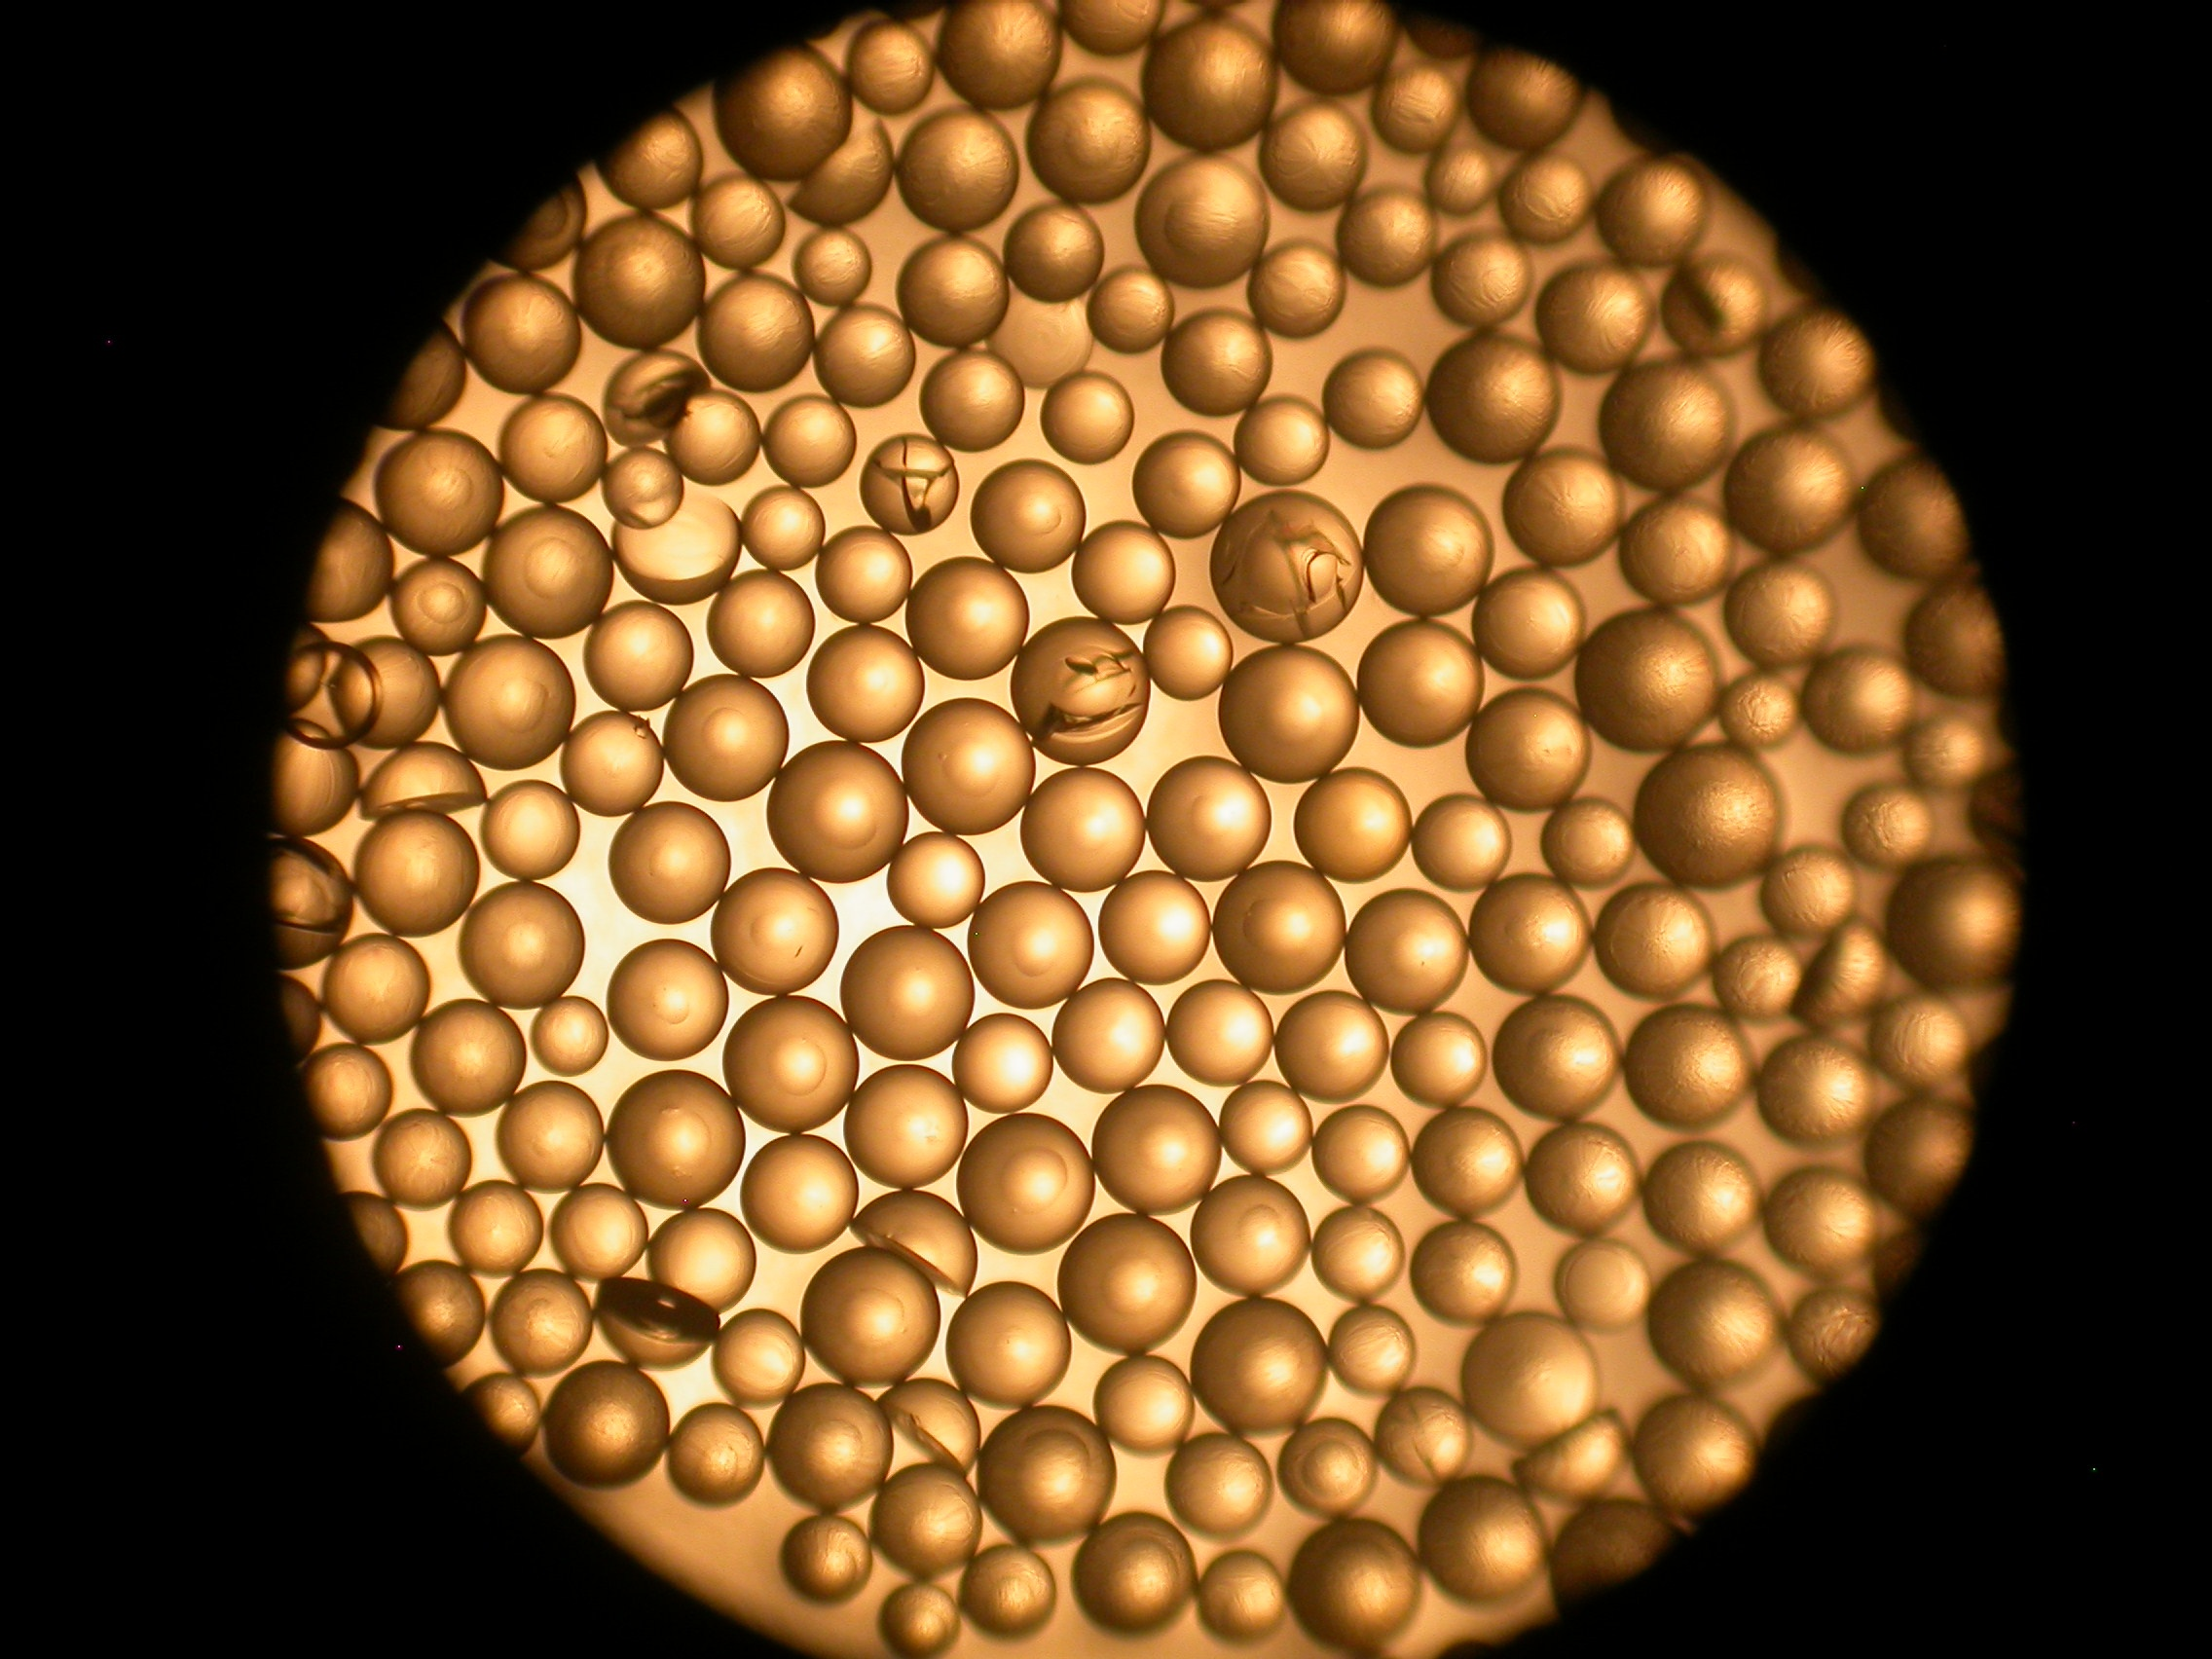destroyed_resin: (1209, 488, 1364, 643), (1010, 617, 1151, 767), (848, 1190, 977, 1297), (254, 836, 352, 969), (596, 1279, 719, 1371), (1663, 253, 1766, 359), (791, 122, 895, 223), (860, 434, 960, 537), (1372, 1385, 1474, 1485), (603, 349, 707, 444), (1515, 1413, 1632, 1499), (359, 742, 489, 816), (878, 1378, 979, 1471), (1799, 920, 1883, 1025)
full_resin: (1634, 744, 1784, 890), (1575, 608, 1721, 753), (766, 741, 911, 884), (1055, 1213, 1198, 1356), (799, 1246, 942, 1387), (956, 1114, 1096, 1256), (1217, 645, 1359, 784), (606, 1068, 745, 1209), (1190, 1297, 1327, 1436), (977, 1406, 1118, 1541), (723, 997, 860, 1133), (840, 925, 975, 1061), (1143, 16, 1278, 152), (1599, 355, 1735, 491), (714, 44, 852, 178), (444, 634, 578, 770), (1212, 861, 1346, 995), (1888, 856, 2022, 990), (902, 699, 1035, 835), (1136, 155, 1271, 288), (1460, 1312, 1599, 1441), (482, 507, 615, 641), (1430, 329, 1562, 464), (1648, 1258, 1785, 1387), (573, 214, 705, 347), (1724, 425, 1860, 554), (456, 880, 587, 1011), (1364, 484, 1493, 617), (967, 878, 1096, 1009), (1092, 1084, 1221, 1215), (1289, 1520, 1421, 1647), (1623, 1002, 1754, 1129), (712, 868, 840, 997), (662, 674, 791, 802), (1420, 1478, 1548, 1605), (354, 810, 481, 939), (376, 429, 503, 558), (543, 1359, 667, 1492), (1357, 620, 1484, 748), (946, 1281, 1071, 1410), (765, 1382, 894, 1507), (1019, 767, 1146, 892), (604, 938, 732, 1063), (1493, 995, 1622, 1119), (1146, 756, 1271, 882), (1465, 687, 1590, 812), (843, 1065, 970, 1188), (906, 556, 1029, 681), (1026, 78, 1151, 202), (1346, 889, 1468, 1016), (608, 802, 732, 925), (1071, 1514, 1197, 1636), (899, 106, 1019, 230), (1860, 453, 1973, 584), (1635, 1396, 1757, 1516), (1468, 875, 1592, 993), (740, 1134, 860, 1255), (1191, 1175, 1310, 1297), (1594, 882, 1716, 1000), (1503, 446, 1625, 563), (1639, 1141, 1763, 1255), (806, 626, 925, 742), (409, 999, 526, 1117), (1761, 303, 1879, 420), (1756, 1033, 1876, 1148), (935, 2, 1062, 110), (970, 458, 1087, 575), (463, 277, 580, 394), (1294, 769, 1413, 884), (698, 274, 813, 392), (1536, 261, 1655, 376), (869, 1462, 984, 1577), (1052, 976, 1165, 1093), (1620, 493, 1737, 606), (1275, 992, 1390, 1105), (1526, 1122, 1641, 1236), (1099, 870, 1211, 985), (1723, 558, 1839, 667), (1905, 579, 2012, 697), (583, 599, 695, 711), (331, 636, 441, 749), (897, 237, 1010, 347), (1764, 1168, 1879, 1276), (1270, 2, 1400, 96), (1472, 566, 1583, 676), (320, 934, 432, 1044), (1259, 101, 1369, 213), (1597, 159, 1709, 268), (1413, 1107, 1524, 1215), (1162, 310, 1273, 418), (1467, 45, 1583, 148), (705, 570, 815, 678), (498, 396, 608, 504), (1867, 1100, 1973, 1211), (1552, 1506, 1669, 1607), (1804, 647, 1912, 755), (498, 1080, 606, 1188), (1167, 978, 1273, 1087), (1132, 432, 1238, 540), (648, 1208, 758, 1312), (303, 502, 394, 626), (1165, 1431, 1271, 1535), (489, 1267, 594, 1373), (1071, 521, 1176, 626), (559, 711, 664, 816), (1411, 1222, 1517, 1324), (920, 350, 1026, 453), (1092, 1354, 1195, 1457), (599, 110, 705, 209), (953, 1012, 1054, 1115), (1277, 1417, 1379, 1518), (813, 305, 914, 408), (665, 1403, 765, 1507), (482, 777, 582, 882), (270, 721, 359, 836), (1432, 230, 1536, 328), (1324, 349, 1425, 448), (1555, 1237, 1655, 1337), (1871, 993, 1970, 1093), (373, 1110, 472, 1209), (1312, 1105, 1413, 1202), (1003, 204, 1104, 301), (390, 1260, 486, 1363), (887, 831, 986, 929), (1413, 793, 1512, 890), (1336, 188, 1435, 286), (1390, 1011, 1489, 1107), (390, 558, 489, 653), (815, 526, 914, 622), (448, 1180, 543, 1277), (960, 1544, 1057, 1638), (1312, 1204, 1406, 1302), (300, 1044, 394, 1141), (1249, 244, 1346, 338), (549, 1183, 648, 1276), (1763, 843, 1858, 938), (665, 392, 761, 486), (712, 1309, 805, 1406), (1787, 1286, 1885, 1378), (1498, 152, 1595, 244), (1219, 1080, 1313, 1175), (691, 174, 784, 270), (1541, 796, 1635, 889), (1042, 371, 1136, 464), (845, 21, 935, 117), (1235, 396, 1331, 486), (1325, 1305, 1418, 1398), (1143, 606, 1233, 701), (763, 396, 857, 486), (1843, 781, 1935, 871), (780, 1514, 871, 1605), (1372, 63, 1463, 153), (1198, 1549, 1285, 1643), (1087, 267, 1174, 354), (1902, 711, 1991, 793), (1712, 936, 1803, 1016), (740, 486, 826, 568), (529, 993, 611, 1075), (603, 448, 686, 528), (1721, 671, 1803, 749), (792, 228, 873, 305), (880, 1582, 960, 1657), (465, 1373, 540, 1448), (1062, 2, 1163, 52), (1423, 143, 1494, 214)
